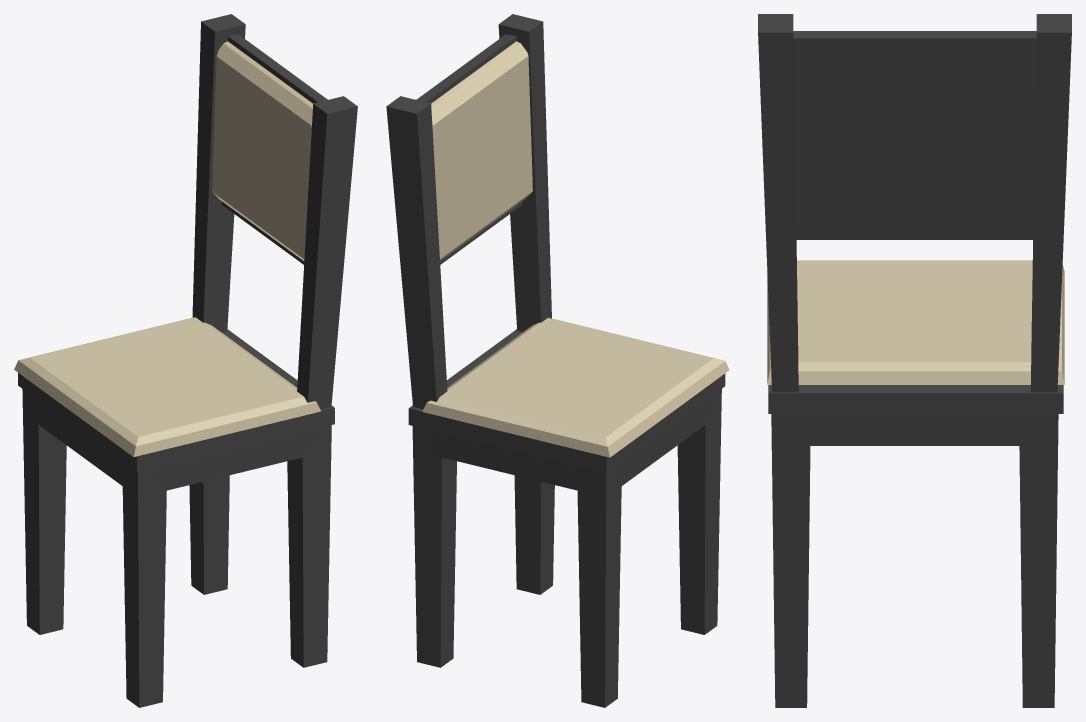
File: Chair1-1.fbx
3 views of the same model, side by side, from view 1: azimuth 30°, elevation 25°; view 2: azimuth 150°, elevation 25°; view 3: azimuth 270°, elevation 25° (orthographic). The views are drawn at different scales.
Visible parts, largest first — view 1: Chair.000_LOD0; view 2: Chair.000_LOD0; view 3: Chair.000_LOD0.
Part boxes in pixels (box(x1,y1,x2,y2)): Chair.000_LOD0: box(14, 14, 357, 707); Chair.000_LOD0: box(386, 14, 729, 707); Chair.000_LOD0: box(758, 14, 1071, 707).
Size of what is drawn, in the model's own units: 93 by 224 by 92.23.
1 material, 1 textured.
